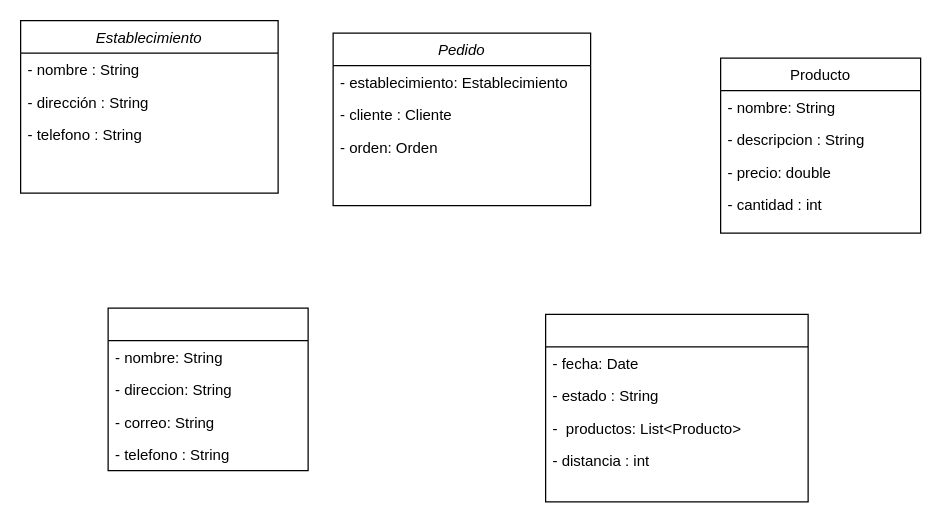
The diagram is 941 pixels wide and 523 high, and some of its shapes have lost their labels. Each missing label, with the box of its shape:
Cliente: (107, 307, 308, 471)
Orden: (544, 313, 808, 502)
